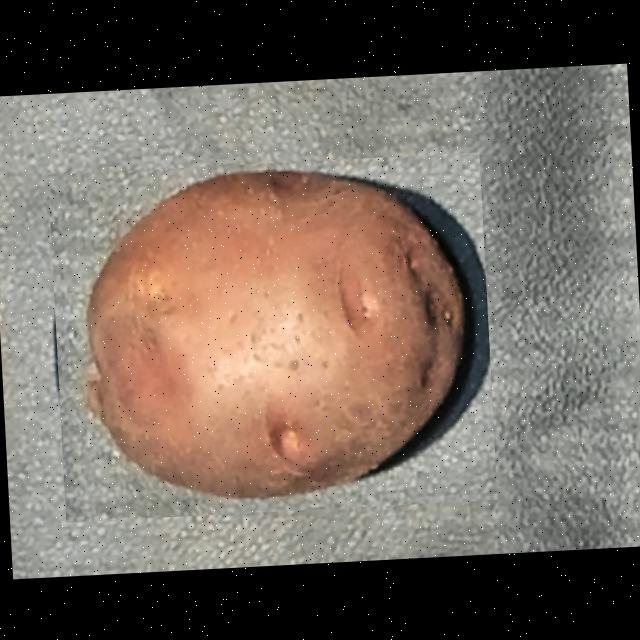Diseased-fungal potato: (48, 152, 498, 522)
